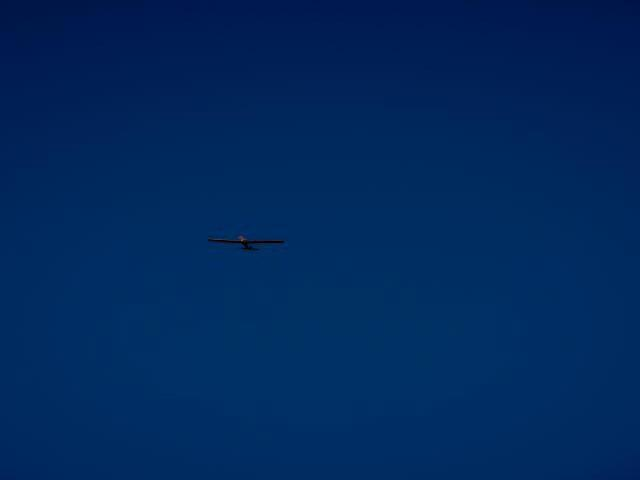iha: (207, 233, 285, 255)
